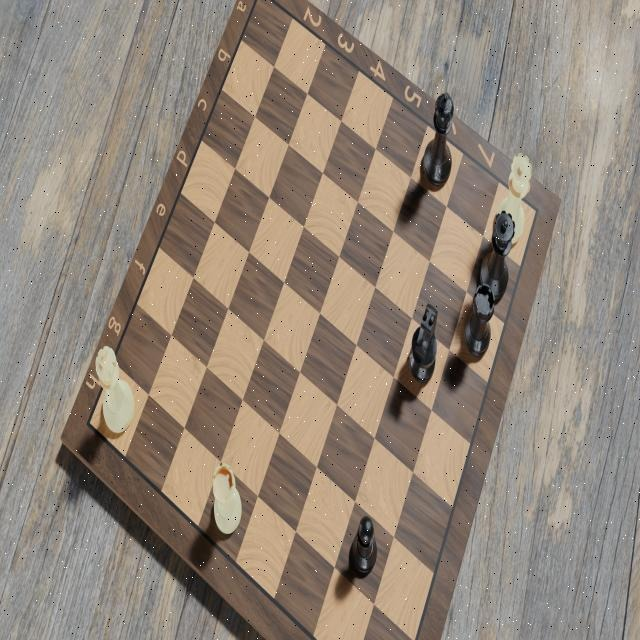black-king: (420, 93, 456, 191)
black-knight: (406, 298, 438, 386)
black-pawn: (348, 512, 379, 577)
black-queen: (478, 207, 515, 301)
black-rook: (462, 280, 496, 363)
white-king: (94, 342, 136, 436)
white-queen: (496, 147, 532, 248)
white-rook: (209, 459, 245, 538)
